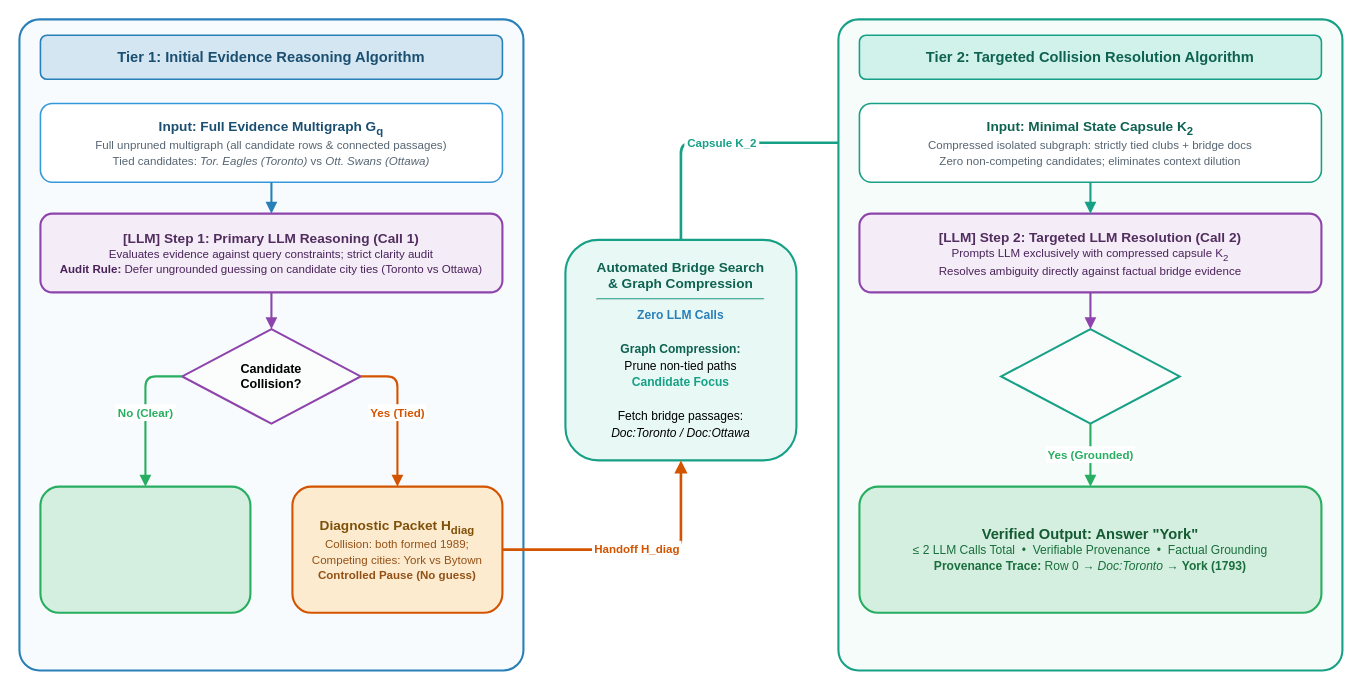
This 1361x689 diagram has some shape labels left out. The shapes that lost their labels are listed below. From the top down, each one's centre as x and y in pixels, then its label:
At (x=1090, y=376): "Grounded by Bridge Passage?".
At (x=145, y=549): "Fast Exit Single LLM Call Unambiguous Evidence Terminate verified".
